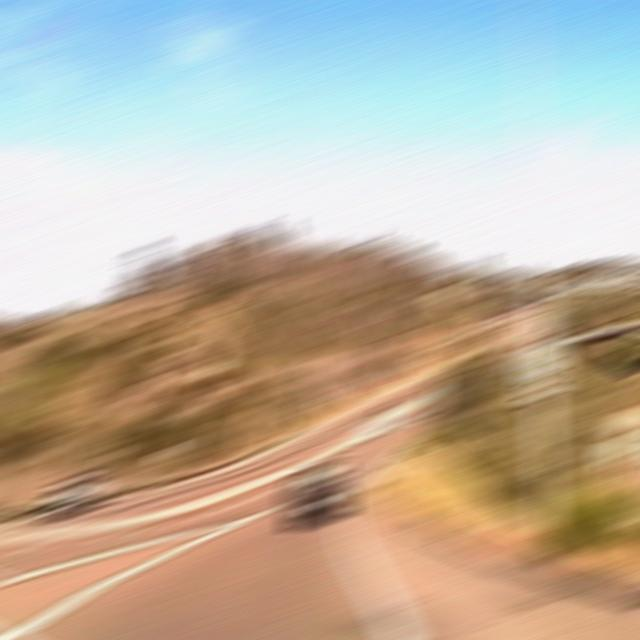speedLimit50: (517, 344, 567, 399)
